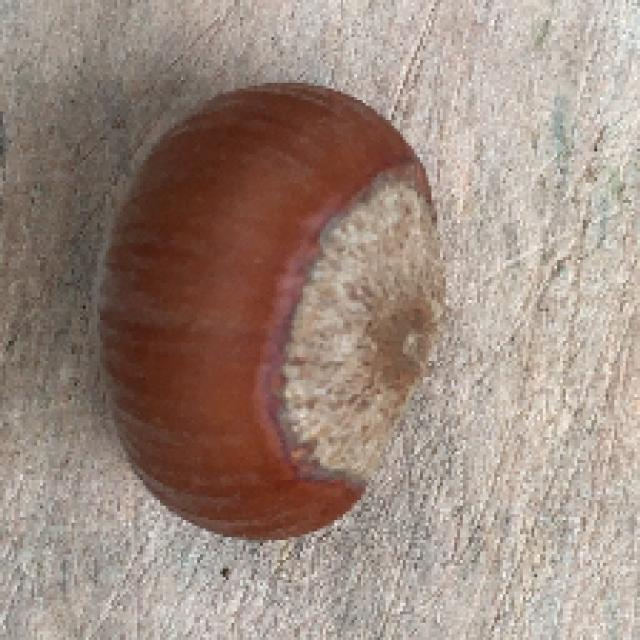QualityHazelnut: (93, 75, 453, 553)
